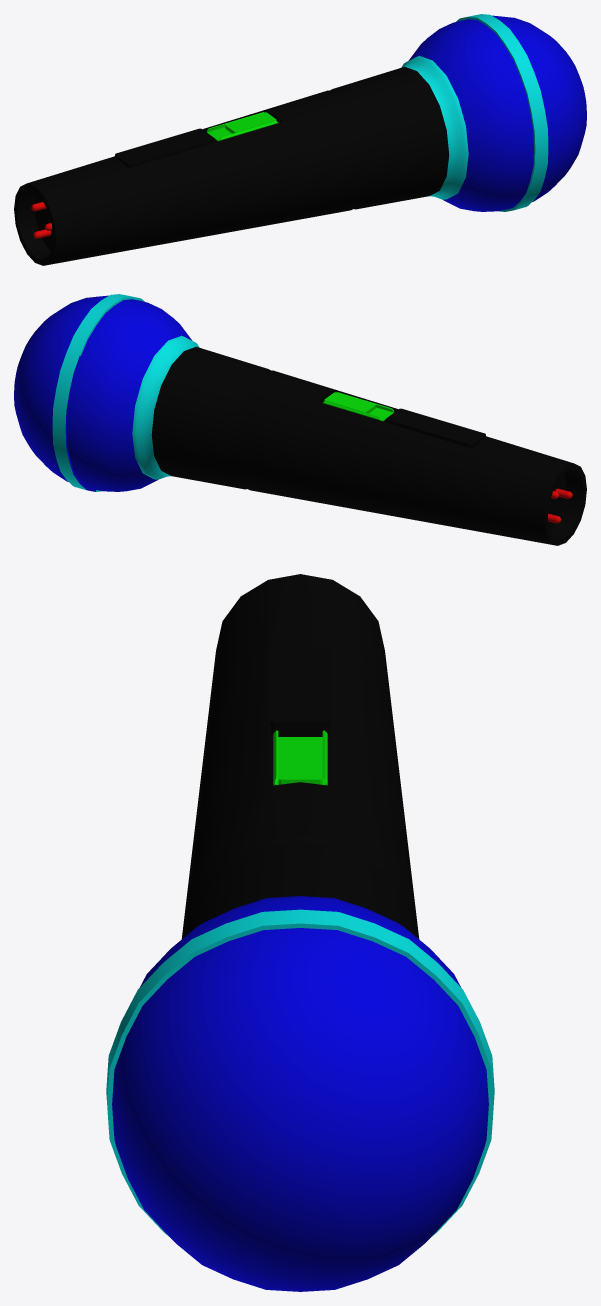
3 renders of one model, top to bottom at view 1: azimuth 30°, elevation 25°; view 2: azimuth 150°, elevation 25°; view 3: azimuth 270°, elevation 25°, orthographic. The views are drawn at different scales.
Parts seen in each view (by area): view 1: Shure_SM60; view 2: Shure_SM60; view 3: Shure_SM60.
Boxes of the visible parts, x1,y1,x2,y2 form: Shure_SM60: (14, 14, 586, 265); Shure_SM60: (14, 294, 586, 545); Shure_SM60: (106, 574, 494, 1291).
Bounding box in the file's own units: 25.91 × 8.08 × 8.34.
